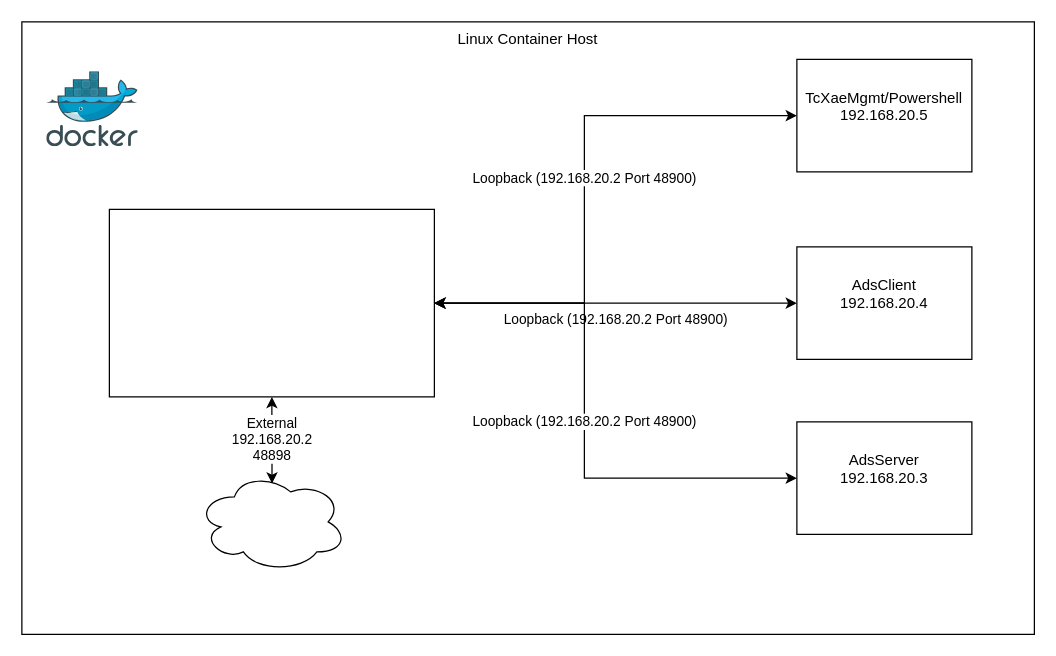
The diagram is 1056 pixels wide and 656 high, and some of its shapes have lost their labels. The box of each missing label's shape, as (x1, y1, x2, y2) in pixels:
AdsRouter 192.168.20.2 LoopbackPort 48900 ExternalLoopbackPort 48898: (108, 208, 434, 397)
Bridged 192.168.220.0: (46, 71, 138, 146)
